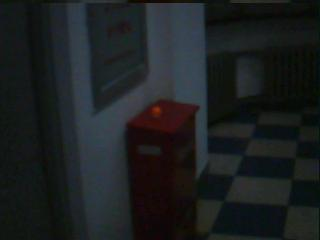oball: (151, 106, 161, 115)
